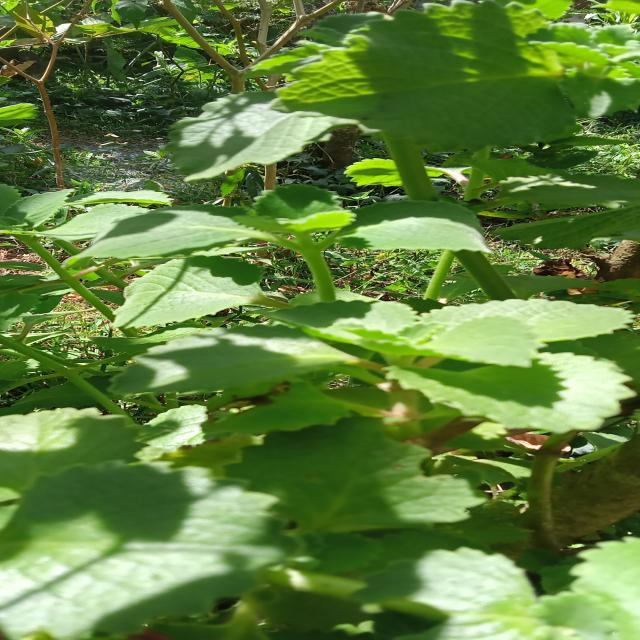Oregano: (66, 274, 640, 464), (49, 188, 510, 288)
